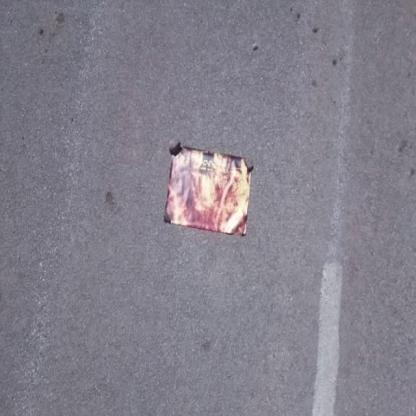fire-poster: (162, 139, 254, 238)
